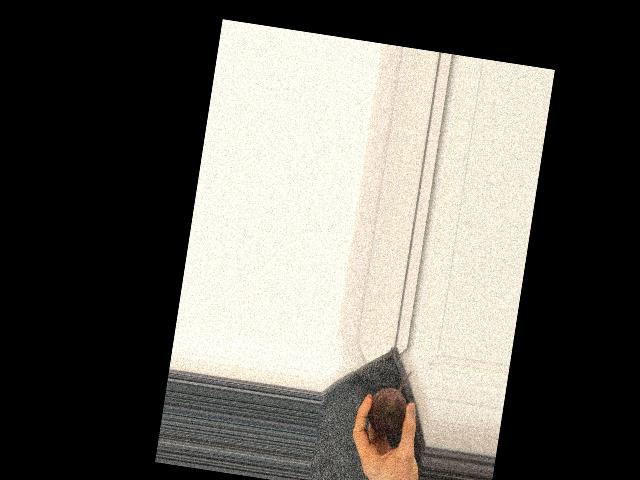beet: (365, 365, 412, 437)
